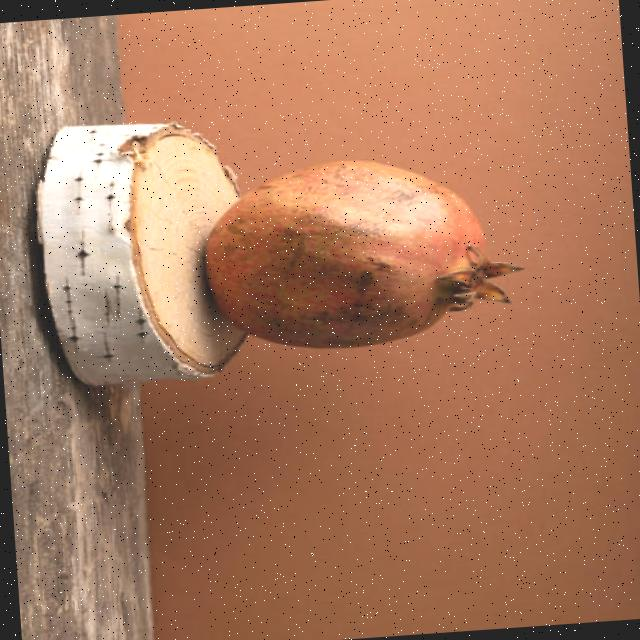overripe: (197, 144, 530, 362)
